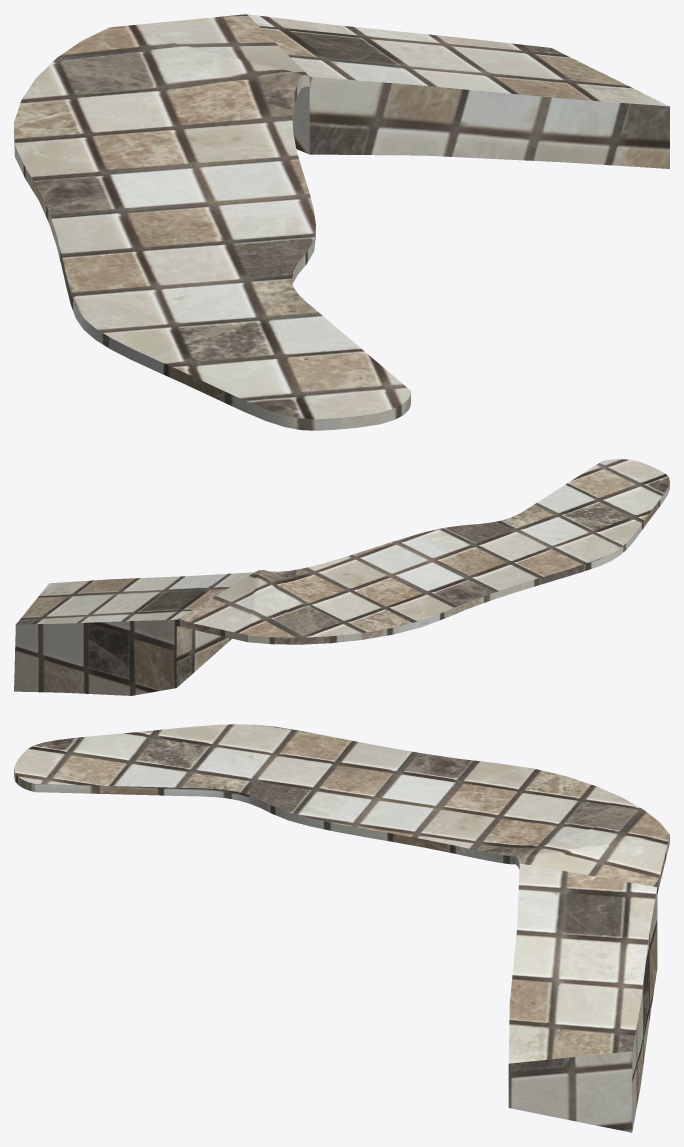
File: Others3.fbx
The picture shows the model from 3 angles, top to bottom: view 1: azimuth 30°, elevation 25°; view 2: azimuth 150°, elevation 25°; view 3: azimuth 270°, elevation 25°; orthographic projection. The views are drawn at different scales.
Parts seen in each view (by area): view 1: Box005; view 2: Box005; view 3: Box005.
Boxes of the visible parts, x1,y1,x2,y2 form: Box005: [14, 14, 669, 430]; Box005: [14, 459, 669, 695]; Box005: [14, 724, 669, 1132].
Size of the model in its own units: 6.94 by 1.96 by 7.27.
